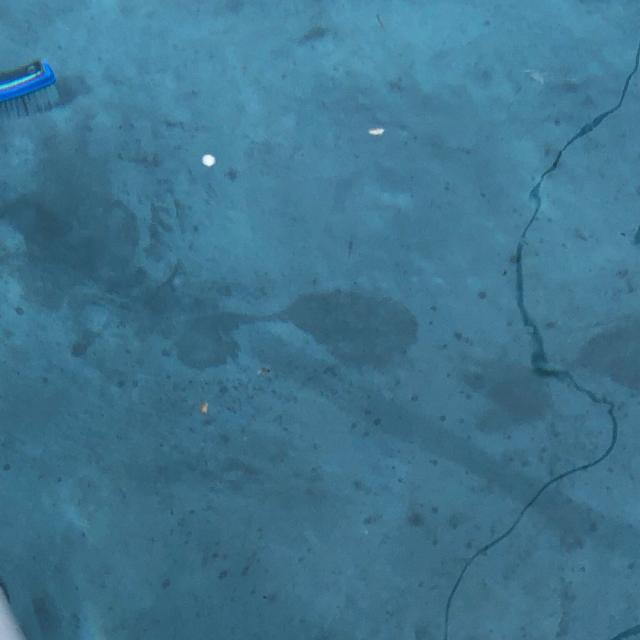crack: (426, 31, 639, 640)
